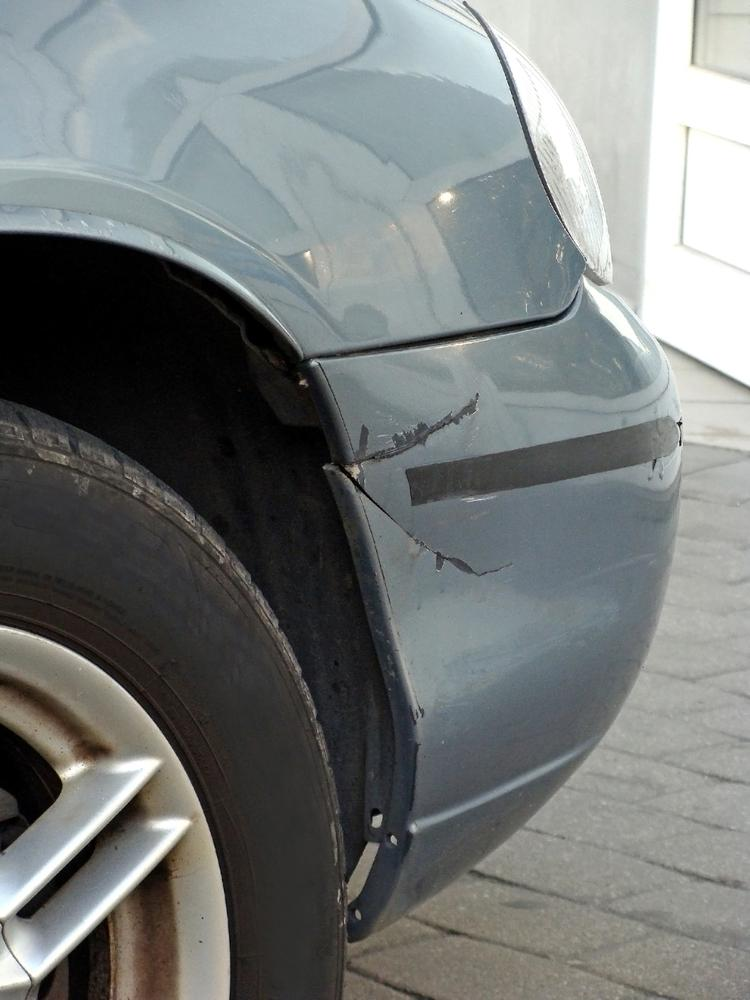crack: (337, 393, 517, 578)
